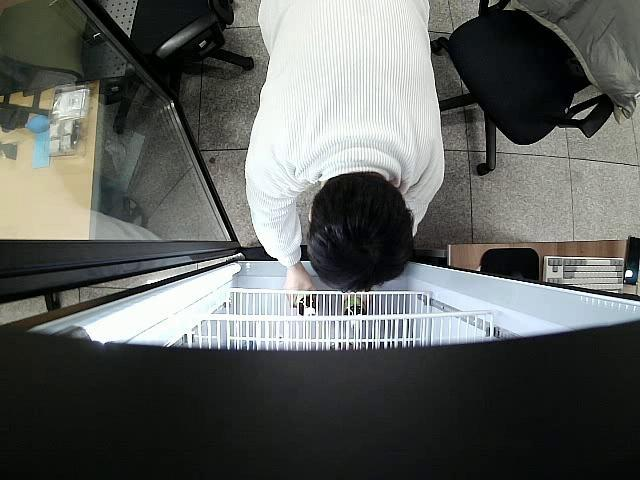19_17cha: (294, 294, 316, 314)
